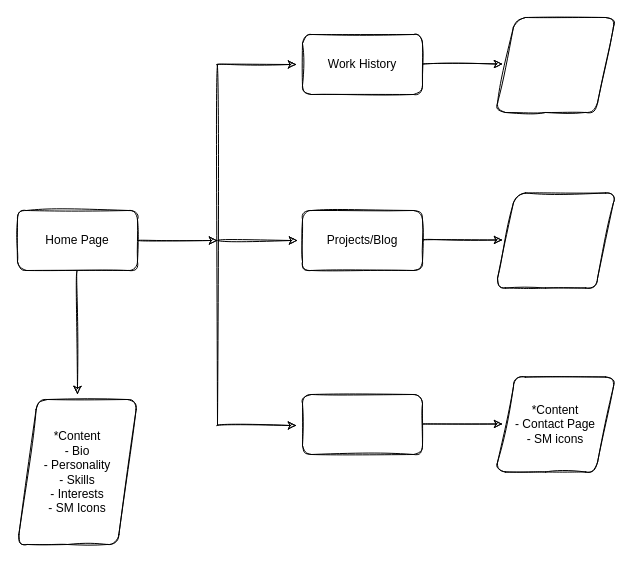
Image size: 633x562. Some labels were removed from this diagram. The centre of each missing label's shape, as x and y in pixels:
"*Content - Projects - Endorsements - Testimonials" belongs at point 555,240.
"*Content - Work History - Education - Certificates" belongs at point 555,64.
"Contact Us" belongs at point 362,424.
